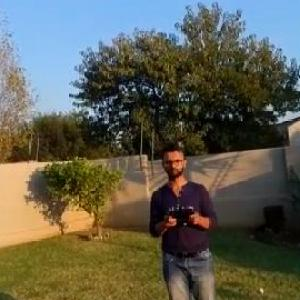follow: (139, 133, 220, 299)
